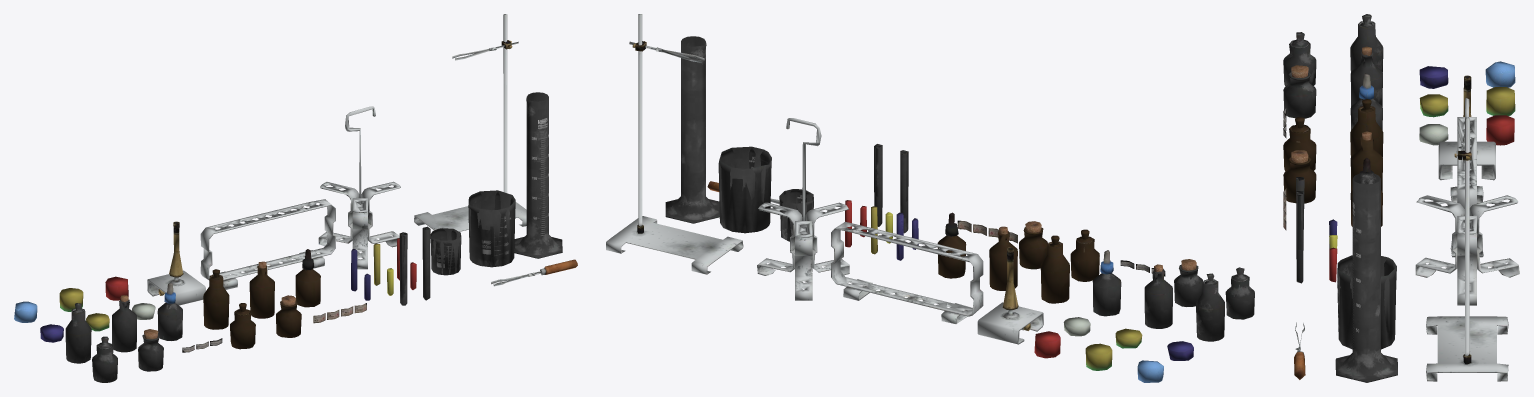
File: chemistry_set.glb
3 views of the same model, side by side, from view 1: azimuth 30°, elevation 25°; view 2: azimuth 150°, elevation 25°; view 3: azimuth 270°, elevation 25° (orthographic). The views are drawn at different scales.
Visible parts, largest first — view 1: chemistry_set_beaker_large, chemistry_set_test_tube_content_b; view 2: chemistry_set_beaker_large, chemistry_set_test_tube_content_b; view 3: chemistry_set_beaker_large, chemistry_set_test_tube_content_b.
Part boxes in pixels (bbox=[...]): chemistry_set_beaker_large: bbox=[40, 92, 562, 382]; chemistry_set_test_tube_content_b: bbox=[14, 14, 577, 339]; chemistry_set_beaker_large: bbox=[665, 36, 1254, 370]; chemistry_set_test_tube_content_b: bbox=[606, 14, 1196, 382]; chemistry_set_beaker_large: bbox=[1283, 14, 1515, 382]; chemistry_set_test_tube_content_b: bbox=[1291, 46, 1519, 381].
Bounding box in the file's own units: 1.08 × 0.4275 × 0.3534.
Materials: 2 (2 with a texture image).
